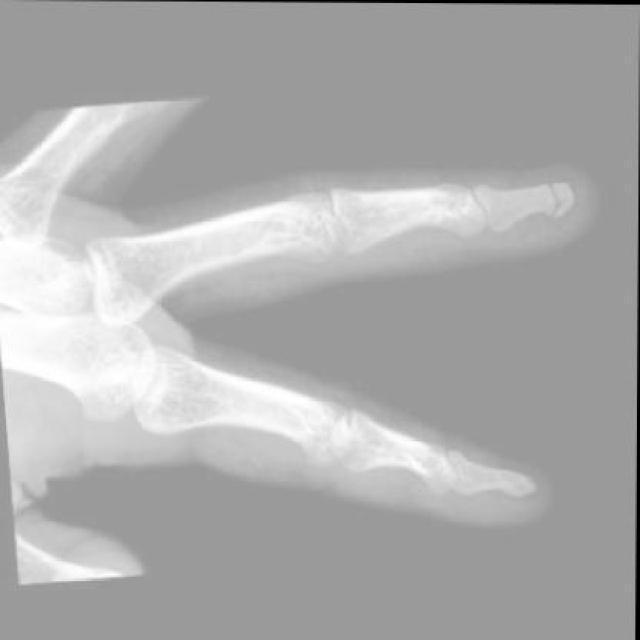Fracture: (532, 169, 585, 222)
